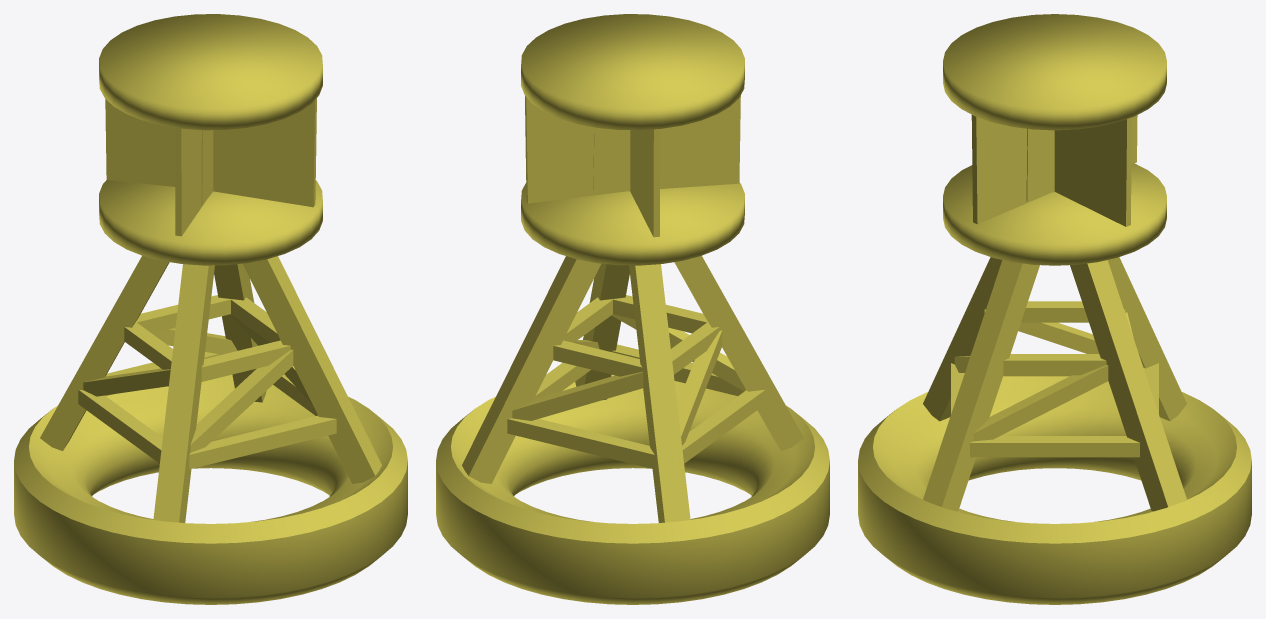
File: buoy.fbx
3 renders of one model, left to right at view 1: azimuth 30°, elevation 25°; view 2: azimuth 150°, elevation 25°; view 3: azimuth 270°, elevation 25°, orthographic.
Visible parts, largest first — view 1: Torus; view 2: Torus; view 3: Torus.
Boxes of the visible parts, x1=… form: Torus: x1=14, y1=14, x2=407, y2=604; Torus: x1=436, y1=14, x2=829, y2=604; Torus: x1=858, y1=14, x2=1251, y2=604.
Size of the model in its own units: 243 by 321 by 243.
